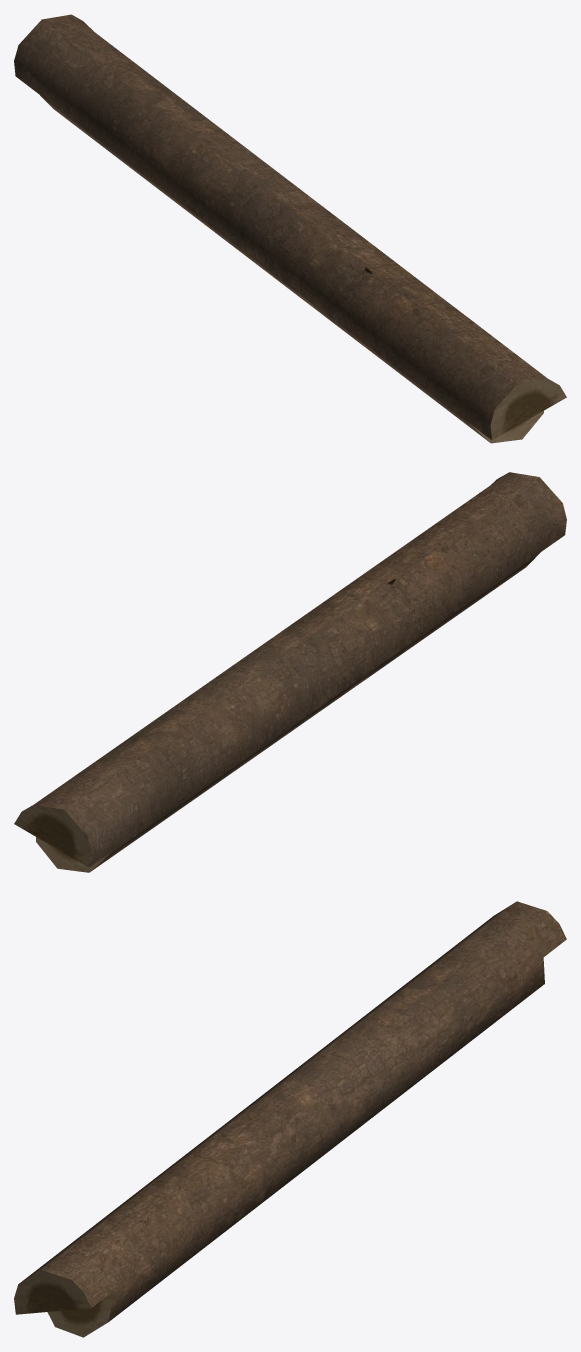
3 renders of one model, top to bottom at view 1: azimuth 30°, elevation 25°; view 2: azimuth 150°, elevation 25°; view 3: azimuth 330°, elevation 25°, orthographic.
Visible parts, largest first — view 1: TS_Lo_up; view 2: TS_Lo_up; view 3: TS_Lo_up.
Part boxes in pixels (<box>): TS_Lo_up: <box>14,14,566,443</box>; TS_Lo_up: <box>14,472,566,872</box>; TS_Lo_up: <box>14,901,566,1337</box>.
Size of the model in its own units: 0.2064 by 0.2322 by 2.14.
Materials: 1 (1 with a texture image).
